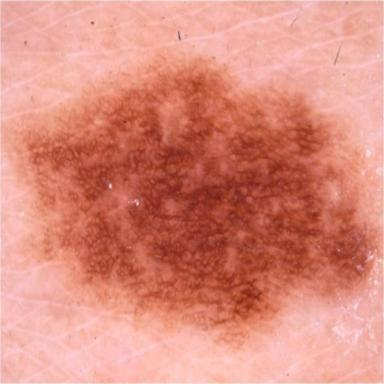nevus: (2, 57, 373, 347)
